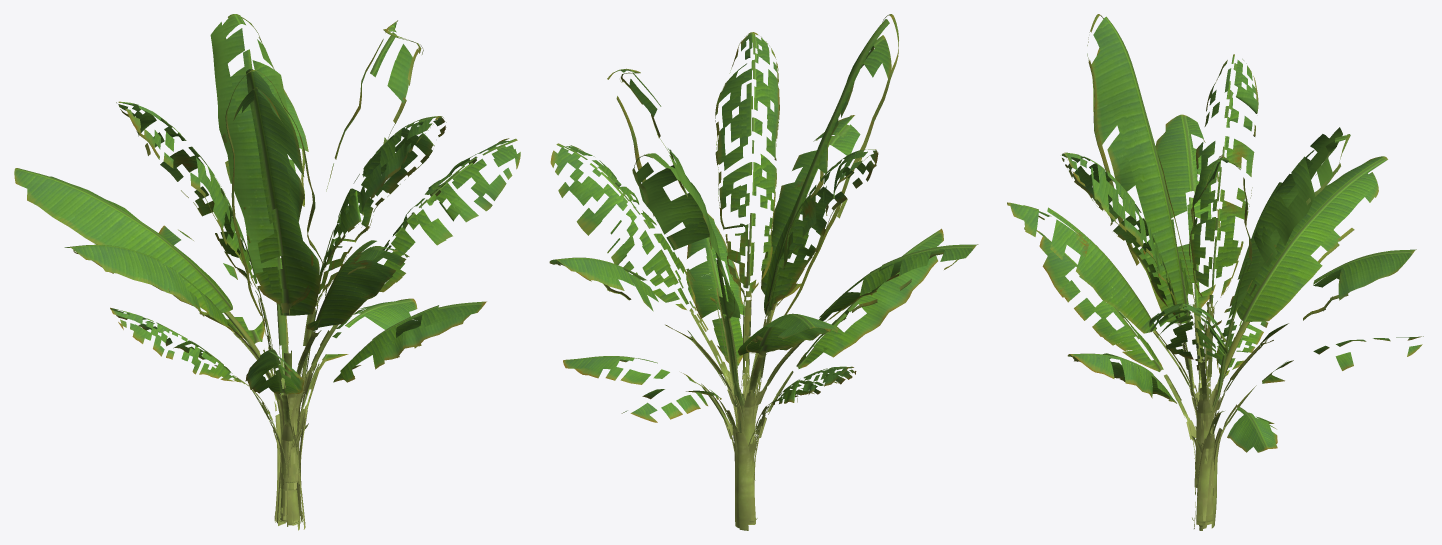
File: banana_plant.glb
3 renders of one model, left to right at view 1: azimuth 30°, elevation 25°; view 2: azimuth 150°, elevation 25°; view 3: azimuth 270°, elevation 25°, orthographic. The views are drawn at different scales.
Parts seen in each view (by area): view 1: banana_plant; view 2: banana_plant; view 3: banana_plant.
Part boxes in pixels (x1,y1,x2,y2): banana_plant: (14, 14, 520, 530); banana_plant: (549, 14, 978, 530); banana_plant: (1007, 14, 1423, 530).
Size of the model in its own units: 2.84 by 3.2 by 2.59.
1 material, 1 textured.
